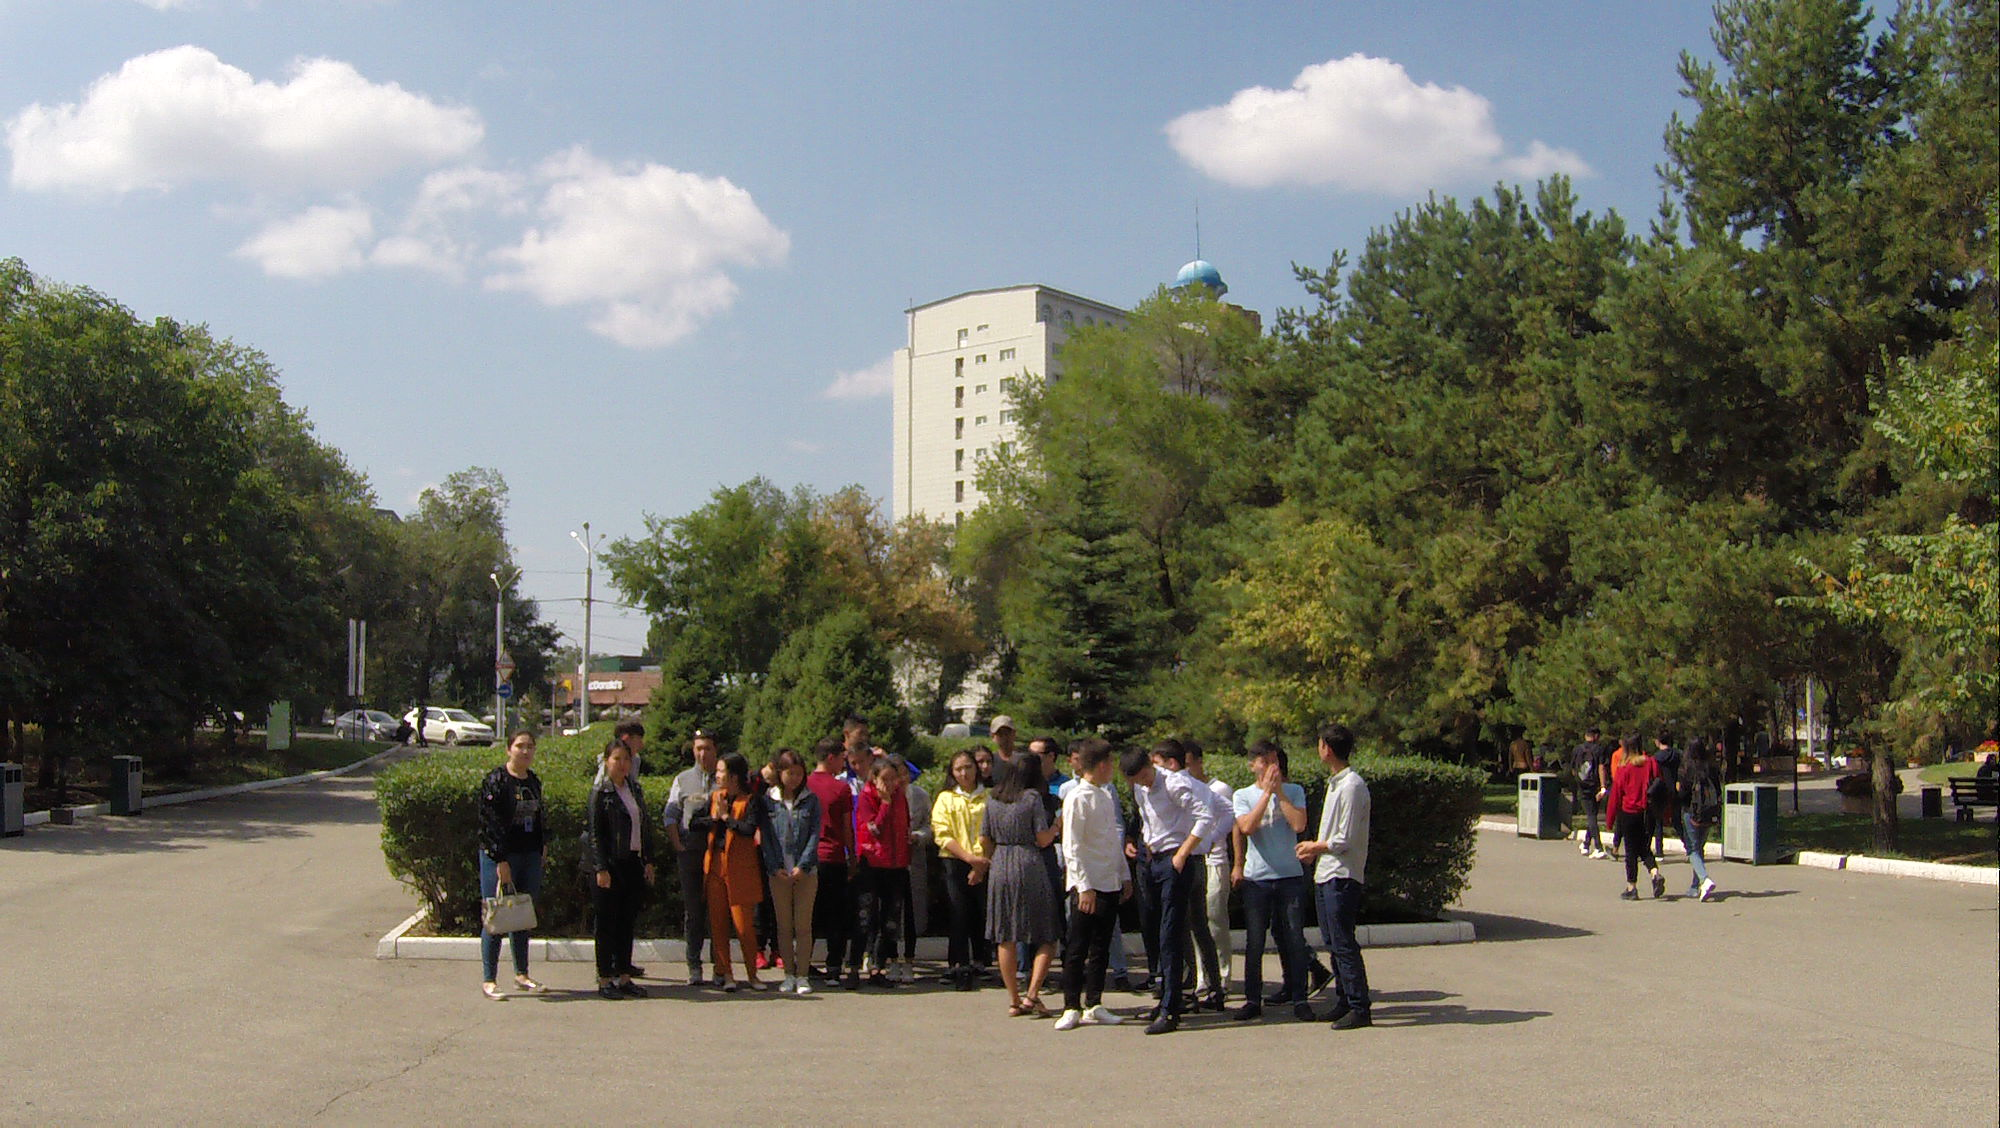person: (1305, 726, 1389, 1049), (1124, 749, 1203, 1047), (464, 728, 549, 999), (1237, 749, 1314, 1016), (1066, 755, 1126, 1045), (705, 762, 770, 997), (997, 751, 1051, 1026), (593, 755, 651, 1008), (1605, 741, 1680, 926), (770, 758, 822, 1005), (941, 766, 993, 980), (870, 774, 920, 983), (1670, 735, 1724, 914), (1568, 728, 1605, 866)
